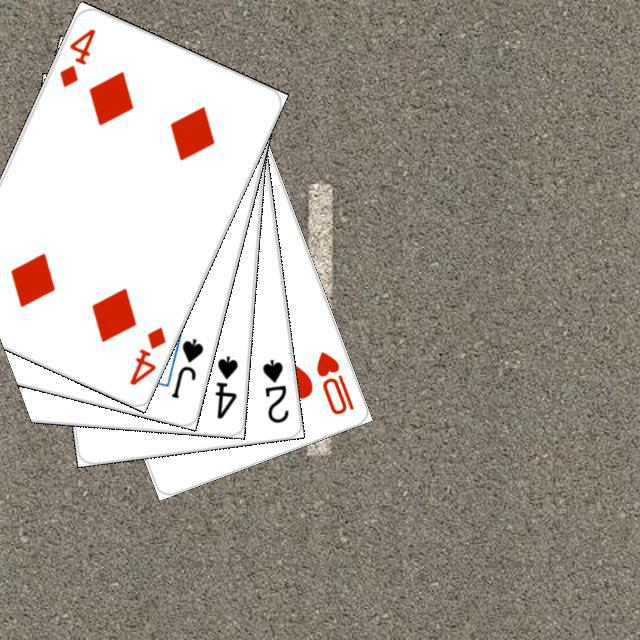10h: (311, 346, 356, 417)
2s: (257, 354, 291, 425)
4d: (54, 23, 97, 90), (124, 322, 168, 387)
4s: (210, 351, 239, 420)
Js: (166, 333, 205, 400)
